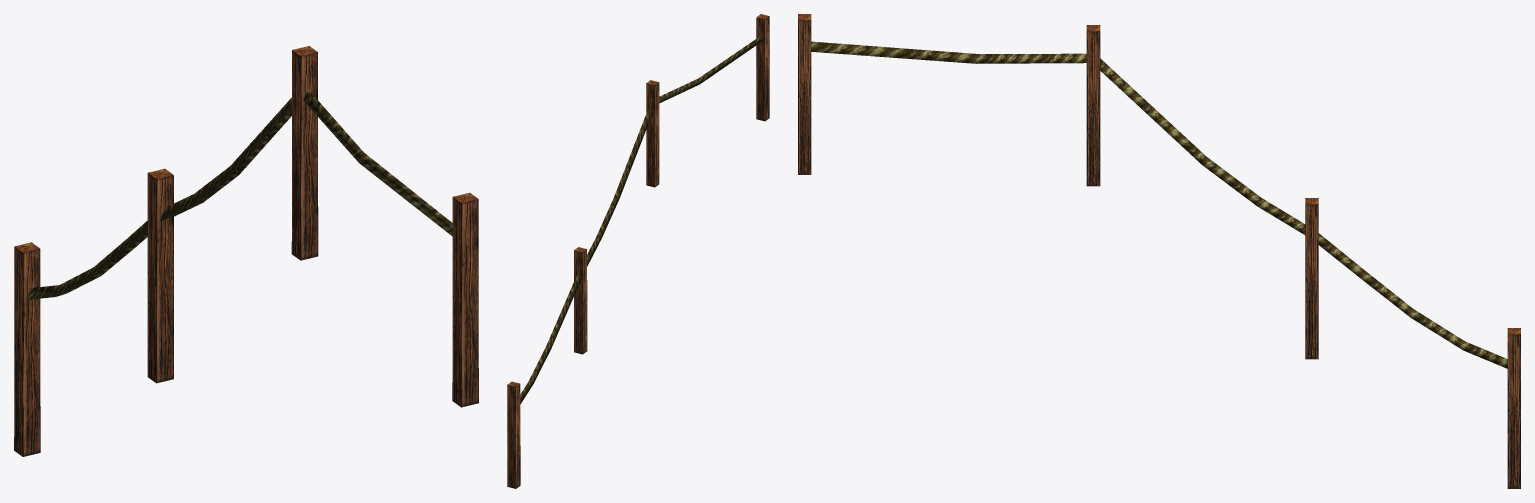
Rendered from LAKETOWN_PUB_PS_PUB_HANDRAIL7575__GX.fbx.
The picture shows the model from 3 angles, left to right: view 1: azimuth 30°, elevation 25°; view 2: azimuth 150°, elevation 25°; view 3: azimuth 270°, elevation 25°; orthographic projection. The views are drawn at different scales.
Visible parts, largest first — view 1: LAKETOWN_PUB_PS_PUB_HANDRAIL7575__GX; view 2: LAKETOWN_PUB_PS_PUB_HANDRAIL7575__GX; view 3: LAKETOWN_PUB_PS_PUB_HANDRAIL7575__GX.
Boxes of the visible parts, box(x1,y1,x2,y2) form: LAKETOWN_PUB_PS_PUB_HANDRAIL7575__GX: box(14, 46, 478, 456); LAKETOWN_PUB_PS_PUB_HANDRAIL7575__GX: box(507, 14, 769, 488); LAKETOWN_PUB_PS_PUB_HANDRAIL7575__GX: box(798, 14, 1520, 488).
Size of the model in its own units: 2309 by 28072 by 40203.
Materials: 3 (3 with a texture image).
